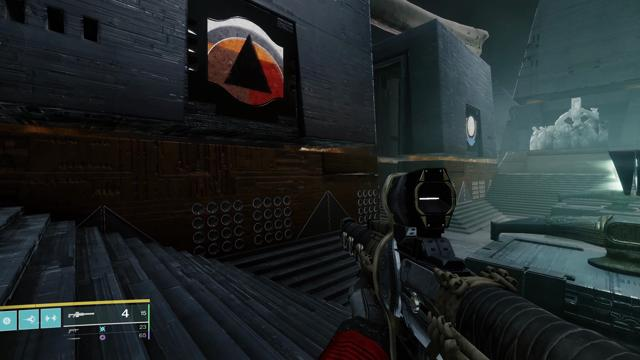pyramid: (207, 15, 284, 106)
traveler: (466, 114, 477, 146)
